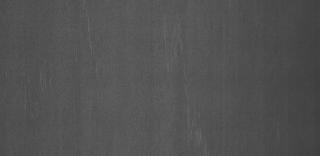silk spot: (158, 14, 195, 75), (182, 102, 214, 148), (78, 16, 104, 54)
